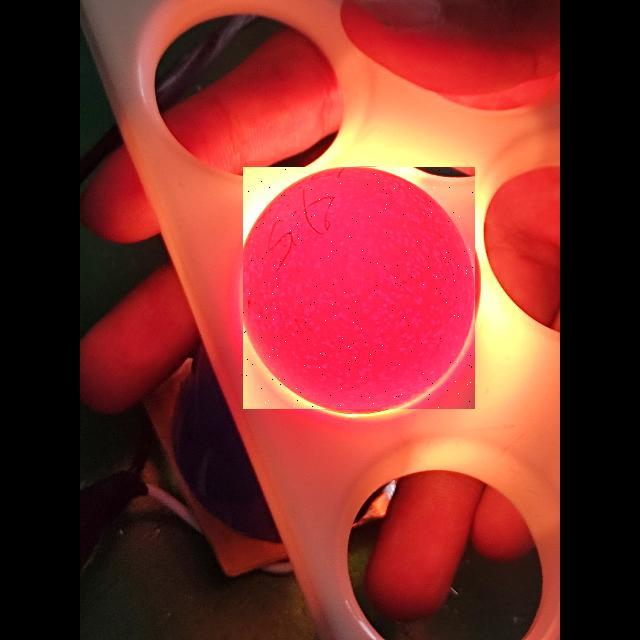Infertile: (243, 167, 475, 409)
